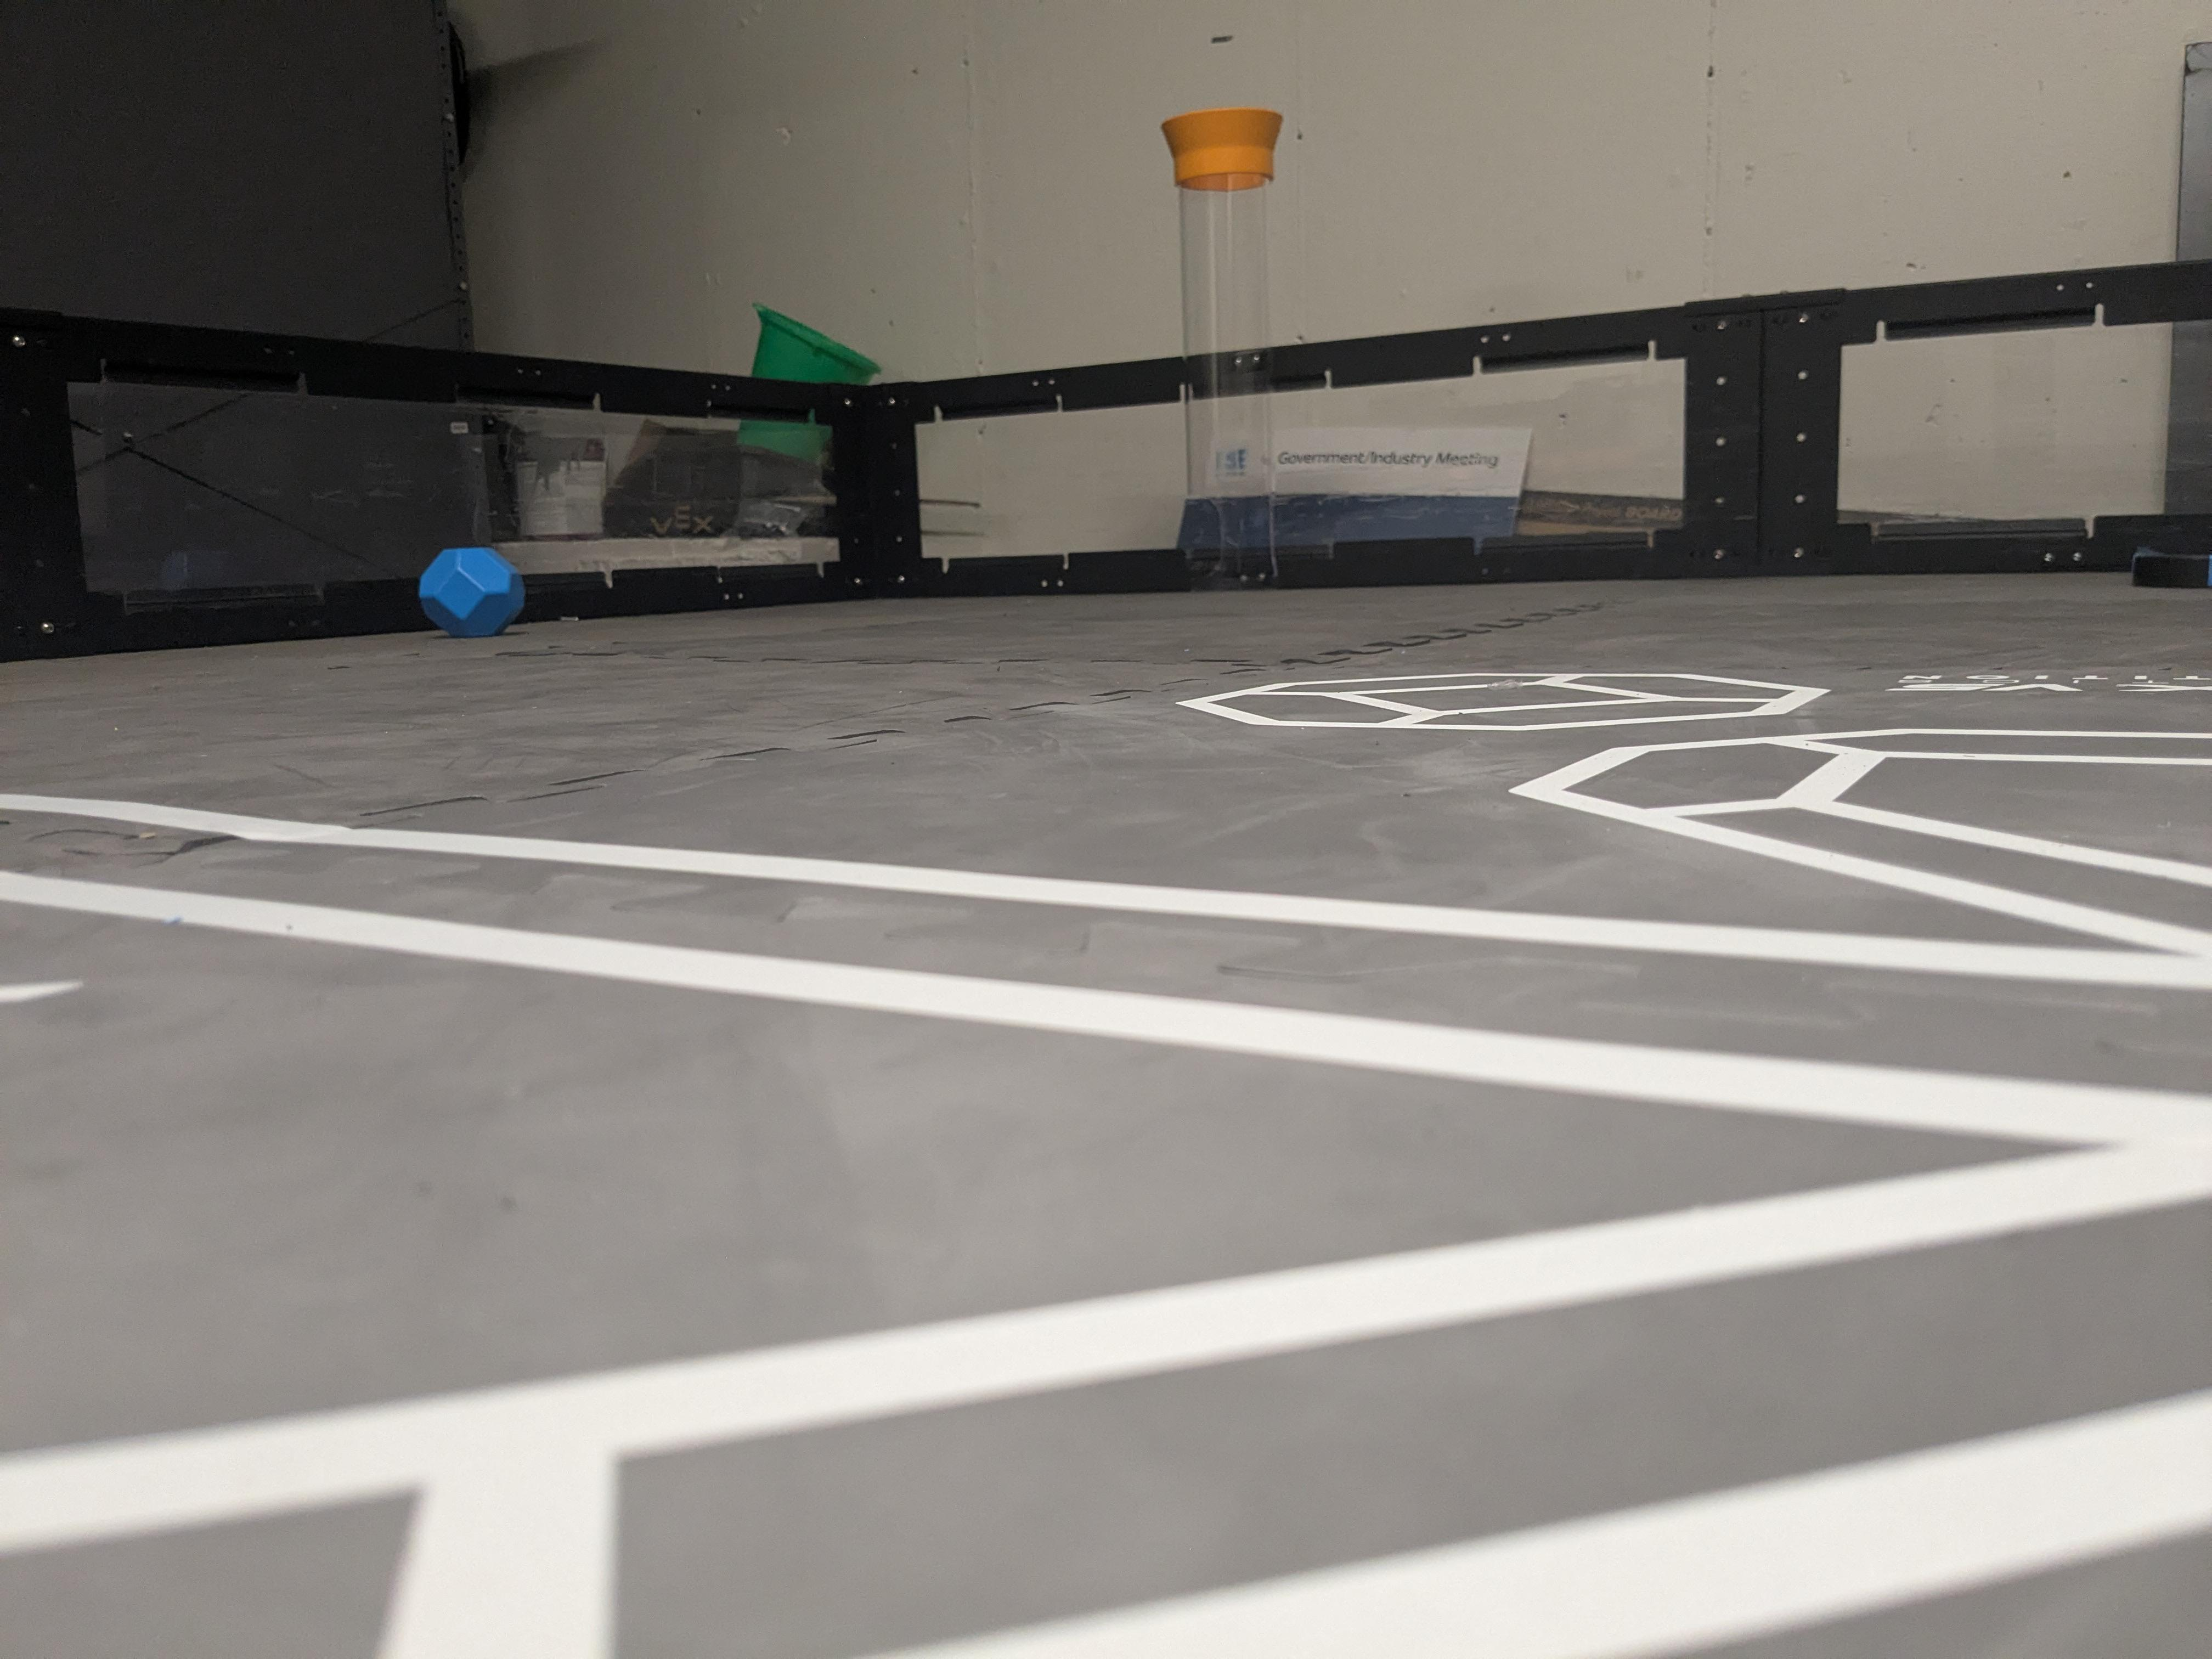Vex-Pieces-BLUE: (418, 549, 521, 638)
